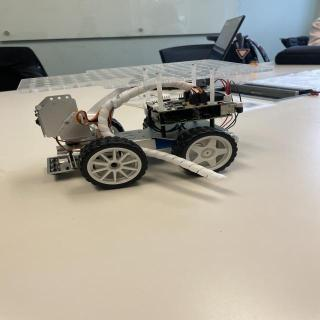vehicle: (19, 62, 257, 192)
